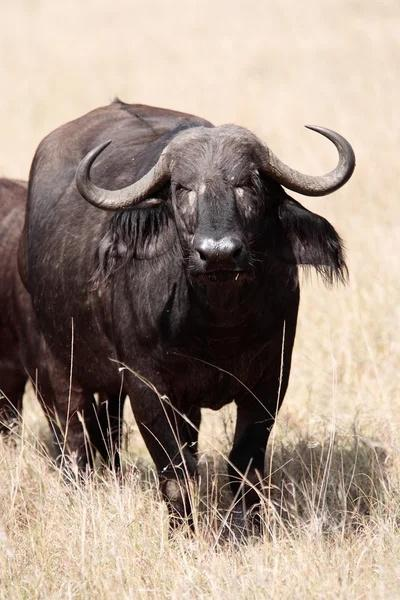buffalo: (18, 99, 356, 537)
